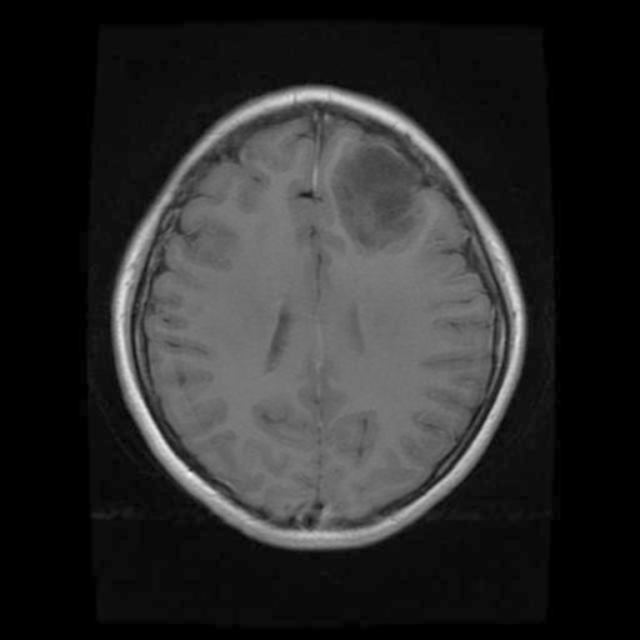pituitary tumor: (336, 152, 430, 248)
